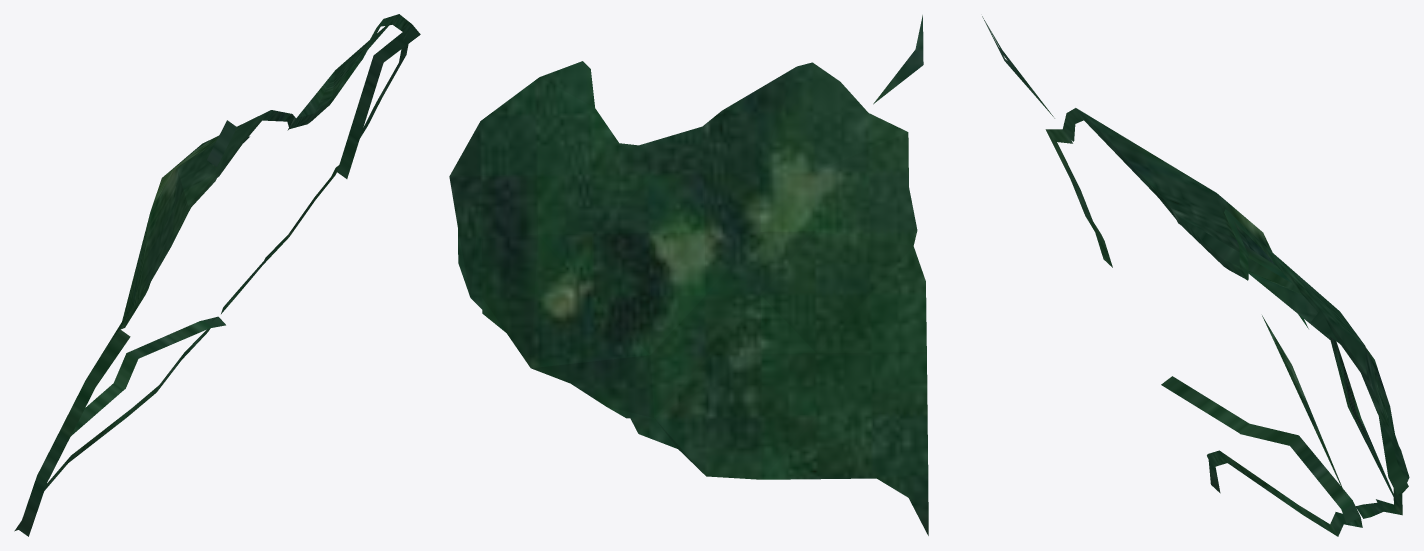
3 views of the same model, side by side, from view 1: azimuth 30°, elevation 25°; view 2: azimuth 150°, elevation 25°; view 3: azimuth 270°, elevation 25° (orthographic). The views are drawn at different scales.
Bounding box in the file's own units: 1239 × 1195 × 871.
Materials: 1 (1 with a texture image).
